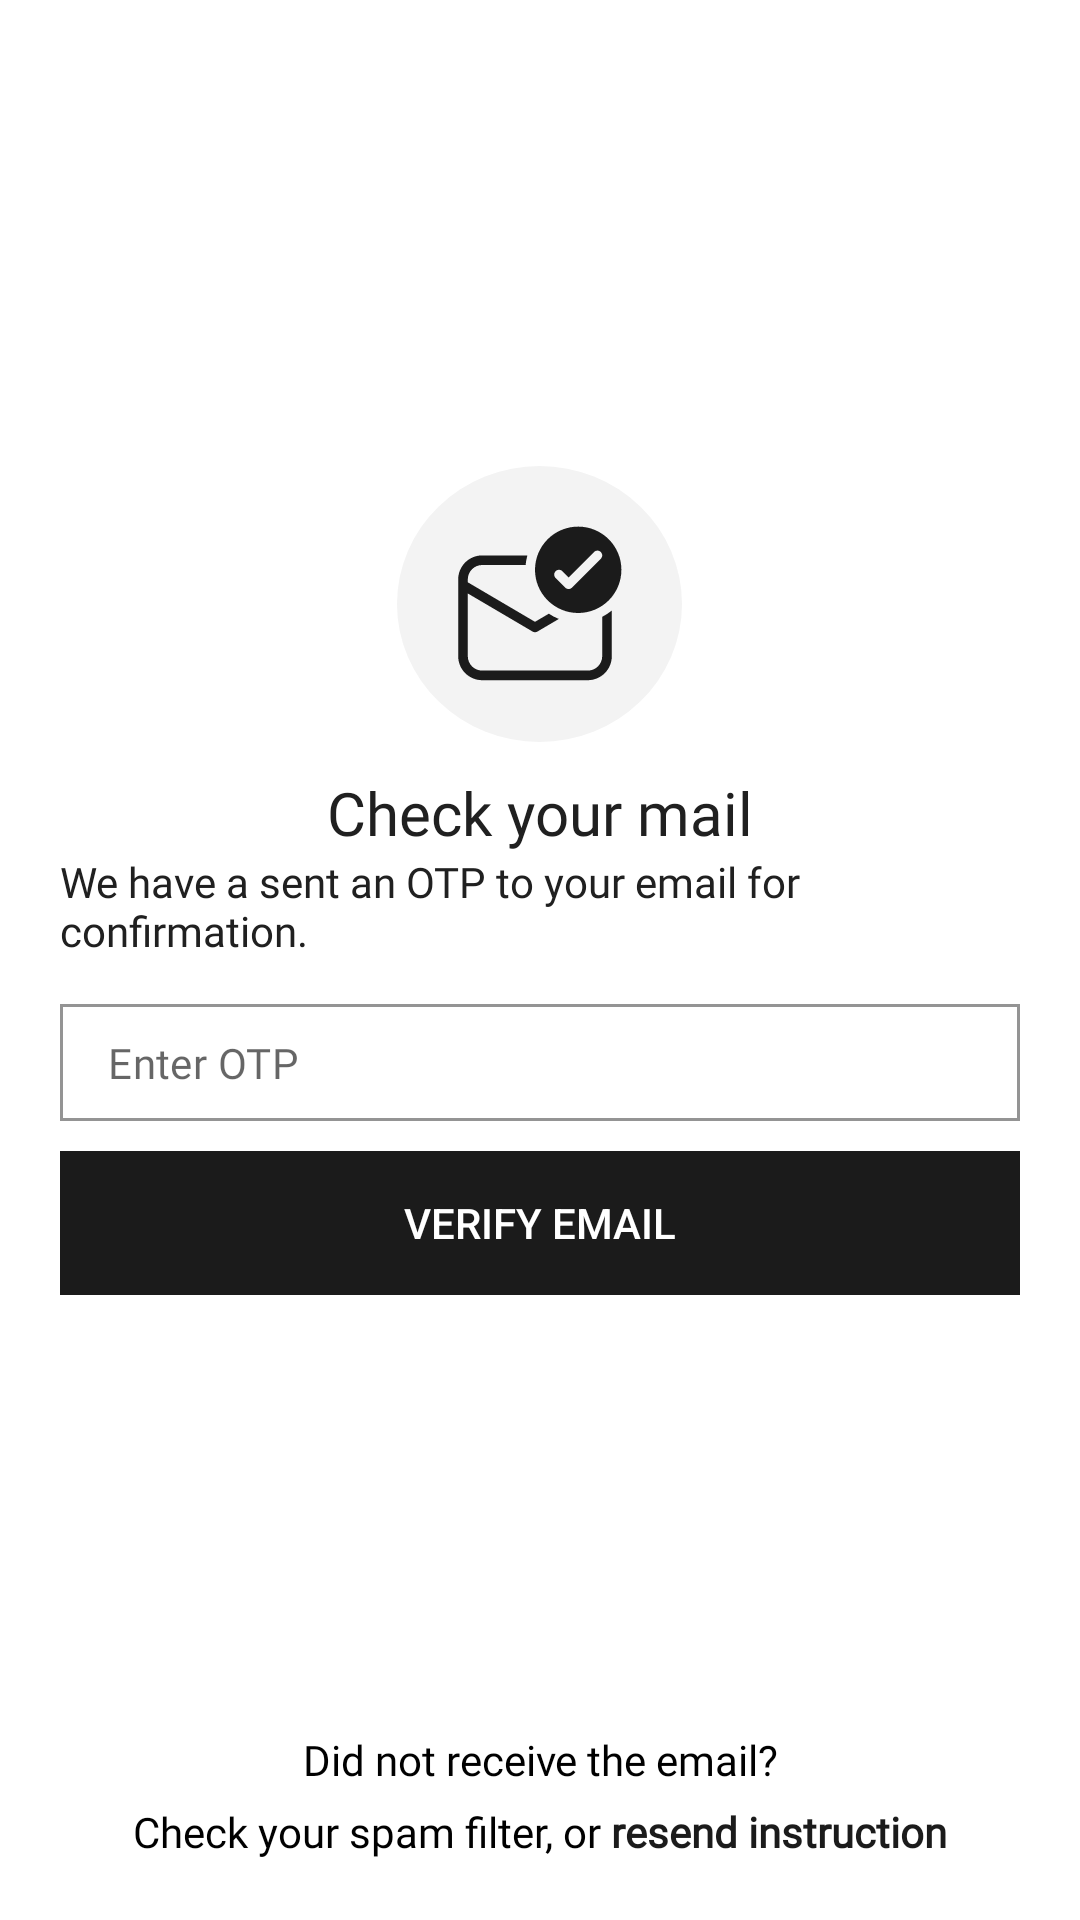

Point at icon controls on the screen. Image size 1080*1920, points as (x,y).
verify email: (540,603)
